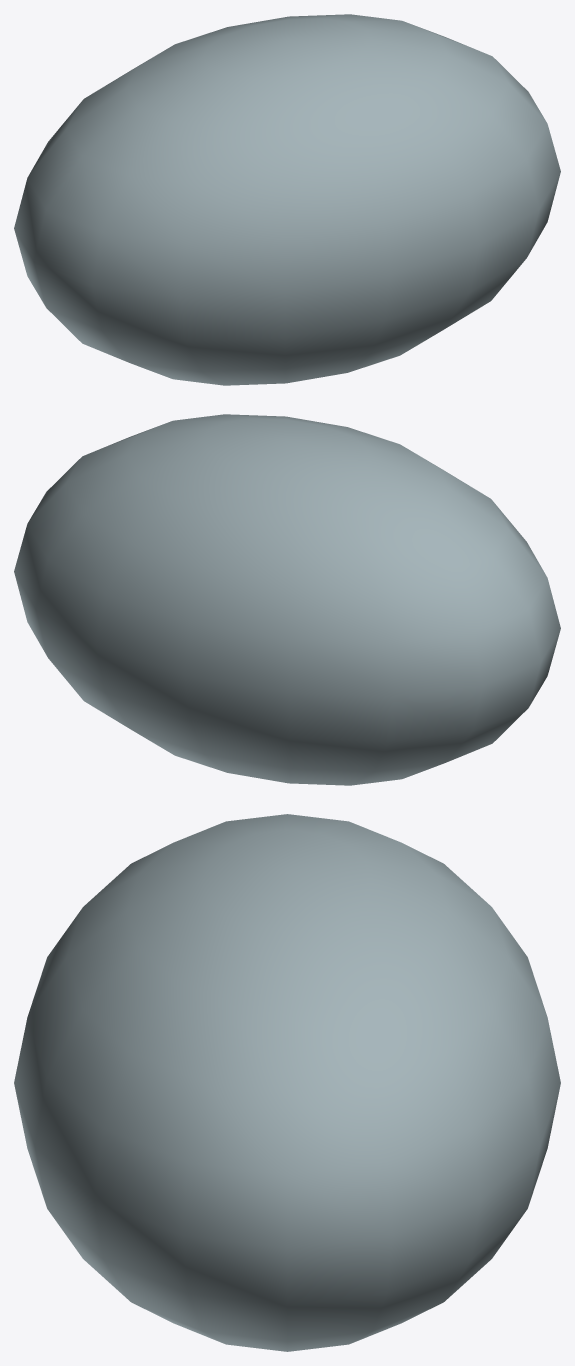
The model's file is word-rock.glb.
3 views of the same model, one above another, from view 1: azimuth 30°, elevation 25°; view 2: azimuth 150°, elevation 25°; view 3: azimuth 270°, elevation 25° (orthographic). The views are drawn at different scales.
Parts seen in each view (by area): view 1: smooth rock; view 2: smooth rock; view 3: smooth rock.
Boxes of the visible parts, x1,y1,x2,y2 form: smooth rock: (14, 14, 560, 385); smooth rock: (14, 414, 560, 785); smooth rock: (14, 814, 560, 1351).
Size of the model in its own units: 1 by 0.6 by 0.7.
